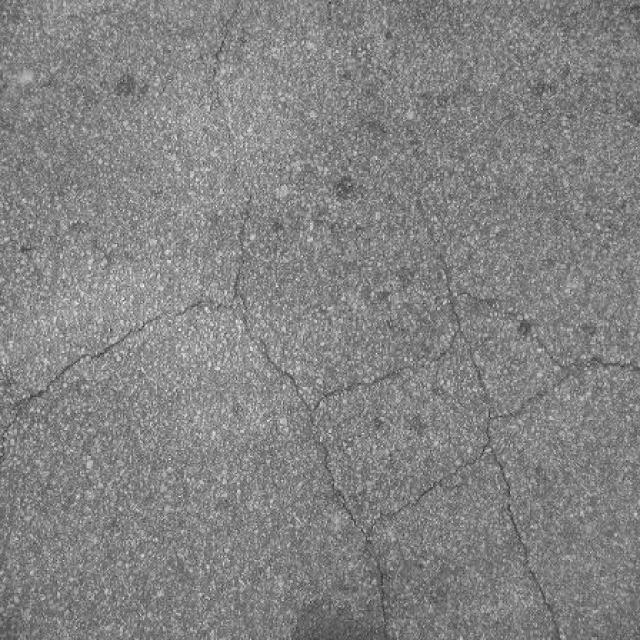Crack: (0, 0, 636, 639)
